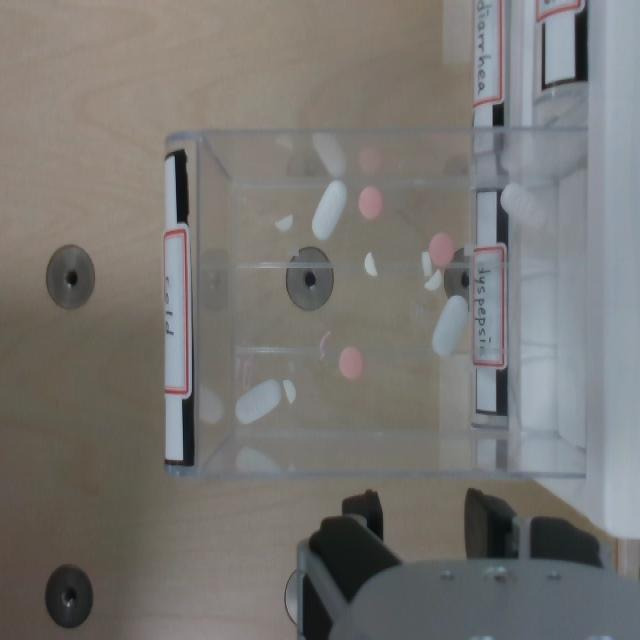amoxicle_tab: (432, 295, 468, 356), (312, 180, 347, 240), (500, 183, 545, 229), (235, 379, 281, 424)
panstar_tab: (429, 233, 454, 269), (358, 185, 383, 220), (339, 347, 363, 380)
sudafed_tab: (424, 269, 442, 291), (282, 380, 296, 403), (364, 252, 377, 276), (275, 215, 293, 232), (421, 251, 432, 276)
